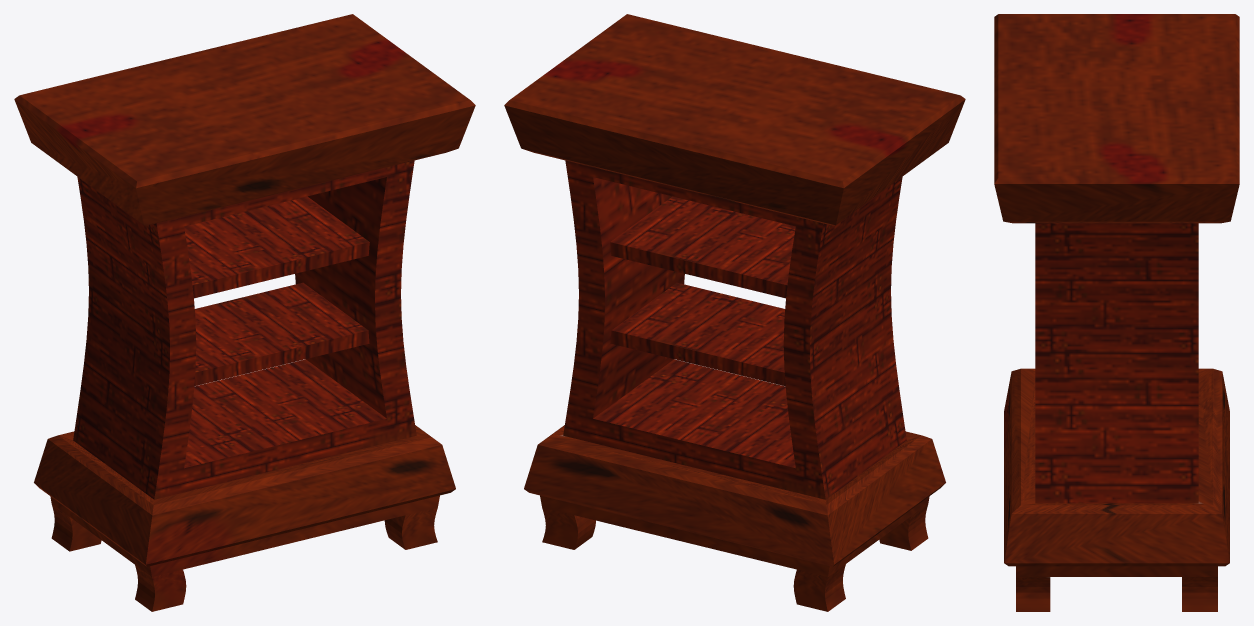
Rendered from Estante.fbx.
3 renders of one model, left to right at view 1: azimuth 30°, elevation 25°; view 2: azimuth 150°, elevation 25°; view 3: azimuth 270°, elevation 25°, orthographic.
Parts seen in each view (by area): view 1: Estante; view 2: Estante; view 3: Estante.
Part boxes in pixels (left/top/right/bottom): Estante: left=14, top=14, right=475, bottom=611; Estante: left=504, top=14, right=965, bottom=611; Estante: left=994, top=14, right=1239, bottom=611.
Size of the model in its own units: 183 by 228 by 114.
1 material, 1 textured.
